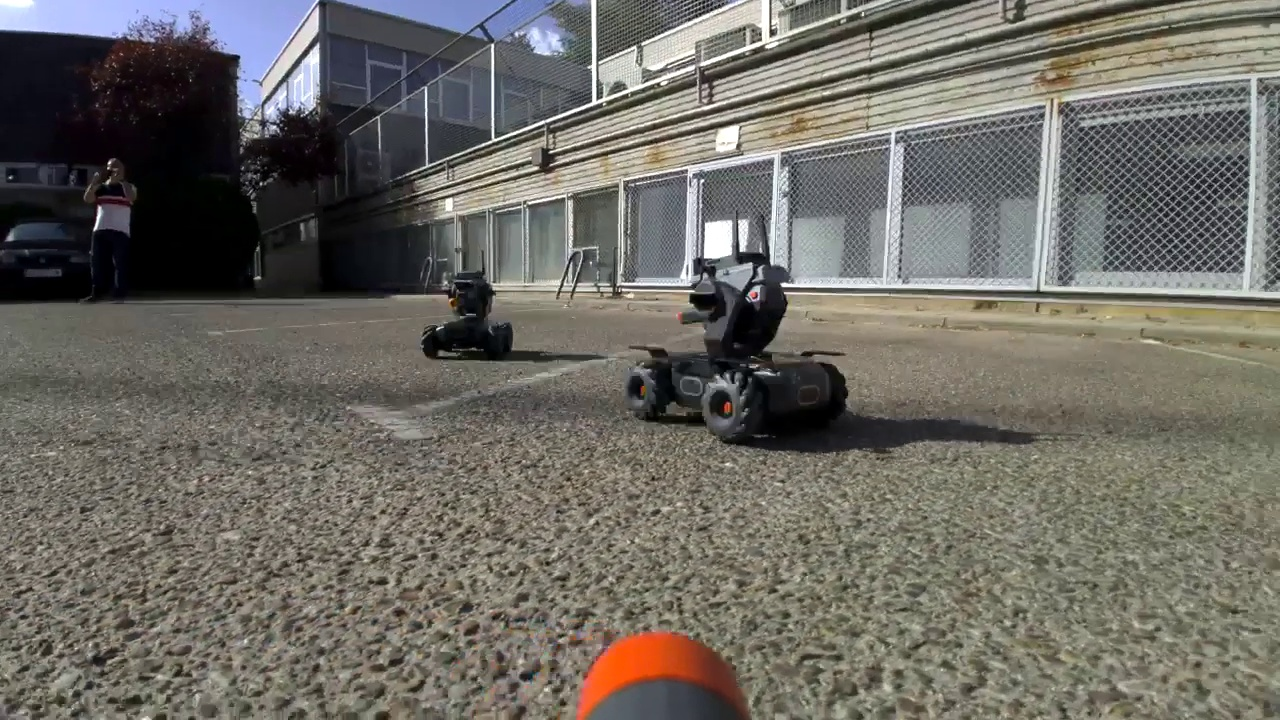robot: (622, 209, 849, 444), (421, 247, 516, 357)
